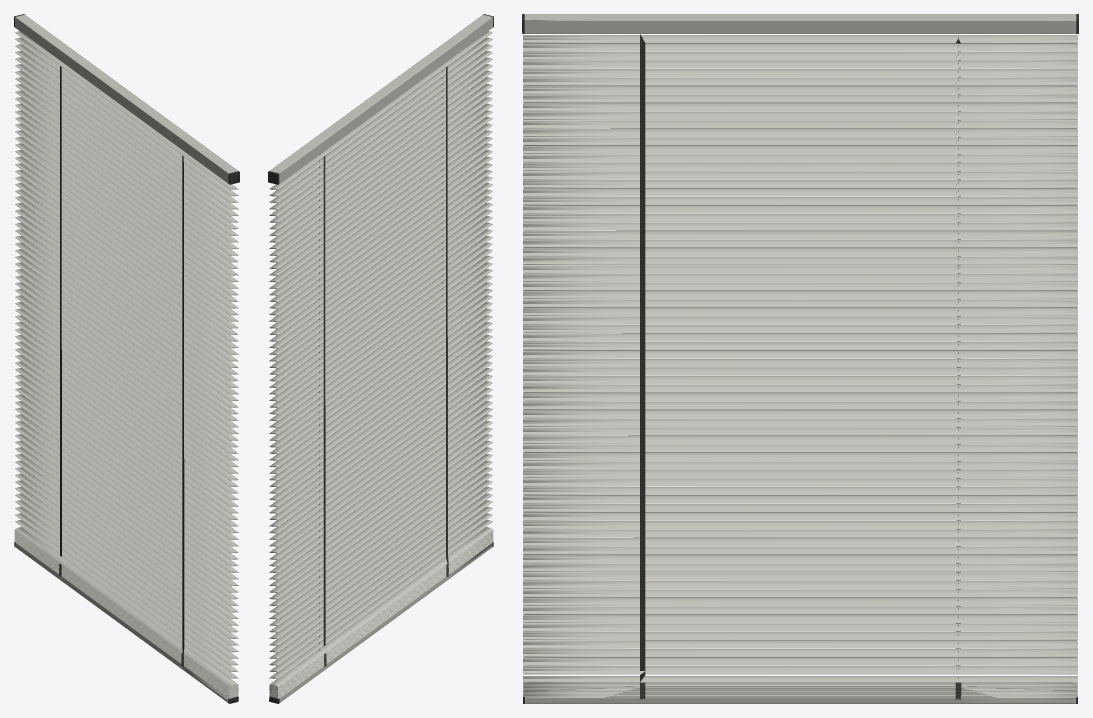
Rendered from blinds_window_2m_open_a01.glb.
3 renders of one model, left to right at view 1: azimuth 30°, elevation 25°; view 2: azimuth 150°, elevation 25°; view 3: azimuth 270°, elevation 25°, orthographic. The views are drawn at different scales.
Visible parts, largest first — view 1: sm_blinds_window_2m_open_a01_01; view 2: sm_blinds_window_2m_open_a01_01; view 3: sm_blinds_window_2m_open_a01_01.
Part boxes in pixels (left/top/right/bottom): sm_blinds_window_2m_open_a01_01: left=14, top=14, right=239, bottom=703; sm_blinds_window_2m_open_a01_01: left=268, top=14, right=493, bottom=703; sm_blinds_window_2m_open_a01_01: left=522, top=14, right=1078, bottom=703.
Bounding box in the file's own units: 0.0561 × 2.57 × 1.89.
4 materials, 4 textured.
